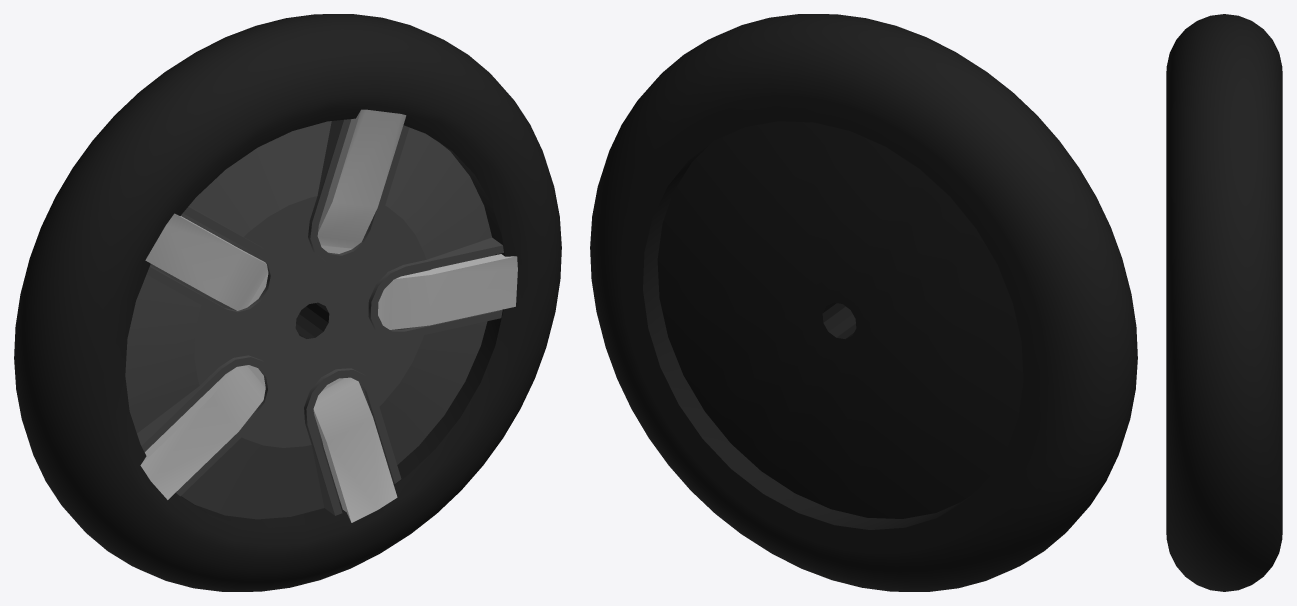
Rendered from segway_wheel_left.dae.
3 renders of one model, left to right at view 1: azimuth 30°, elevation 25°; view 2: azimuth 150°, elevation 25°; view 3: azimuth 270°, elevation 25°, orthographic. The views are drawn at different scales.
Parts seen in each view (by area): view 1: STL_Model; view 2: STL_Model; view 3: STL_Model.
Part boxes in pixels (x1,y1,x2,y2): STL_Model: (14, 14, 561, 591); STL_Model: (590, 14, 1137, 591); STL_Model: (1166, 14, 1282, 591).
Bounding box in the file's own units: 0.4635 × 0.463 × 0.0931.
Materials: 1 (1 with a texture image).
